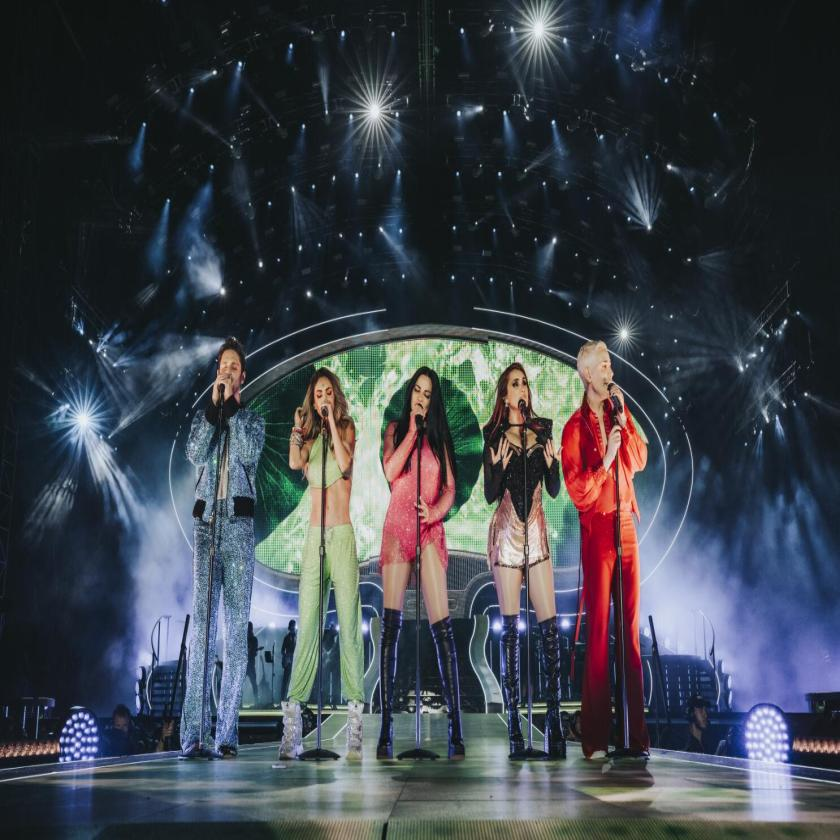Sin_casco: (569, 333, 618, 406), (498, 358, 538, 426), (305, 355, 342, 425), (402, 367, 444, 426), (215, 333, 248, 408)
